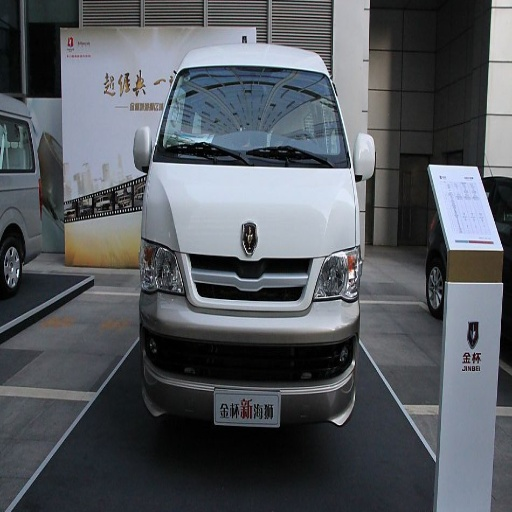front_bumper: (141, 222, 357, 428)
front_right_light: (139, 237, 183, 294)
hood: (147, 164, 357, 258)
